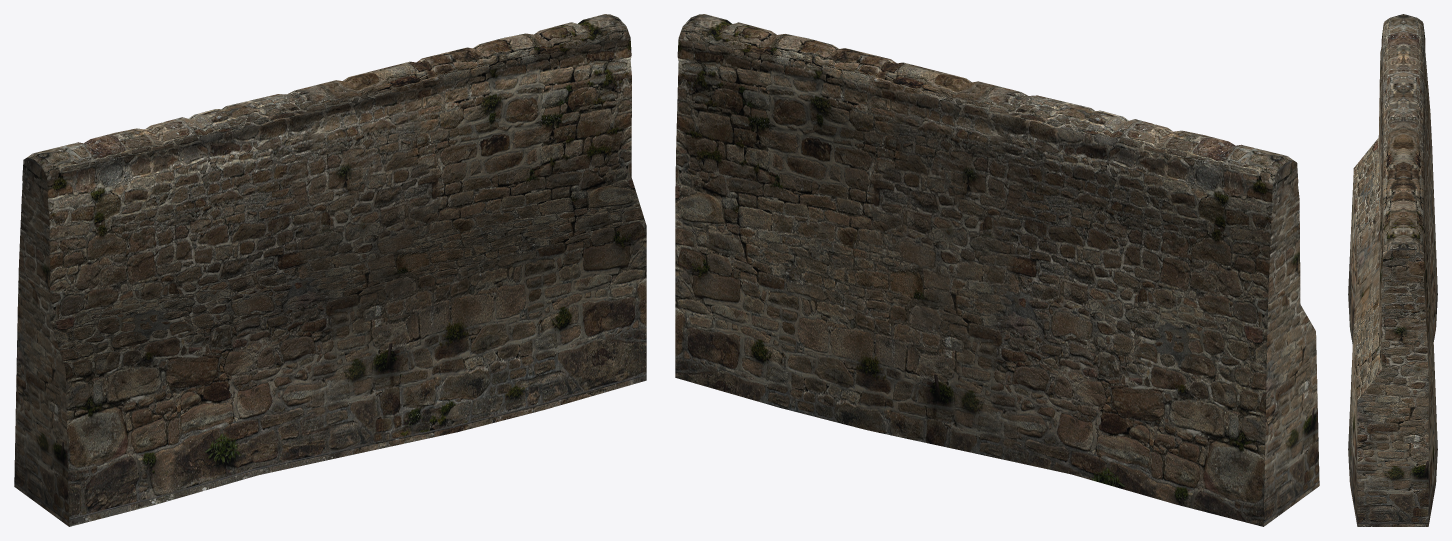
The model's file is wall_3.fbx.
The picture shows the model from 3 angles, left to right: view 1: azimuth 30°, elevation 25°; view 2: azimuth 150°, elevation 25°; view 3: azimuth 270°, elevation 25°; orthographic projection. The views are drawn at different scales.
Parts seen in each view (by area): view 1: wall_3; view 2: wall_3; view 3: wall_3.
Boxes of the visible parts, <box> form: wall_3: <box>14,14,646,526</box>; wall_3: <box>675,14,1319,526</box>; wall_3: <box>1348,14,1437,526</box>.
Size of the model in its own units: 2328 by 1322 by 380.
